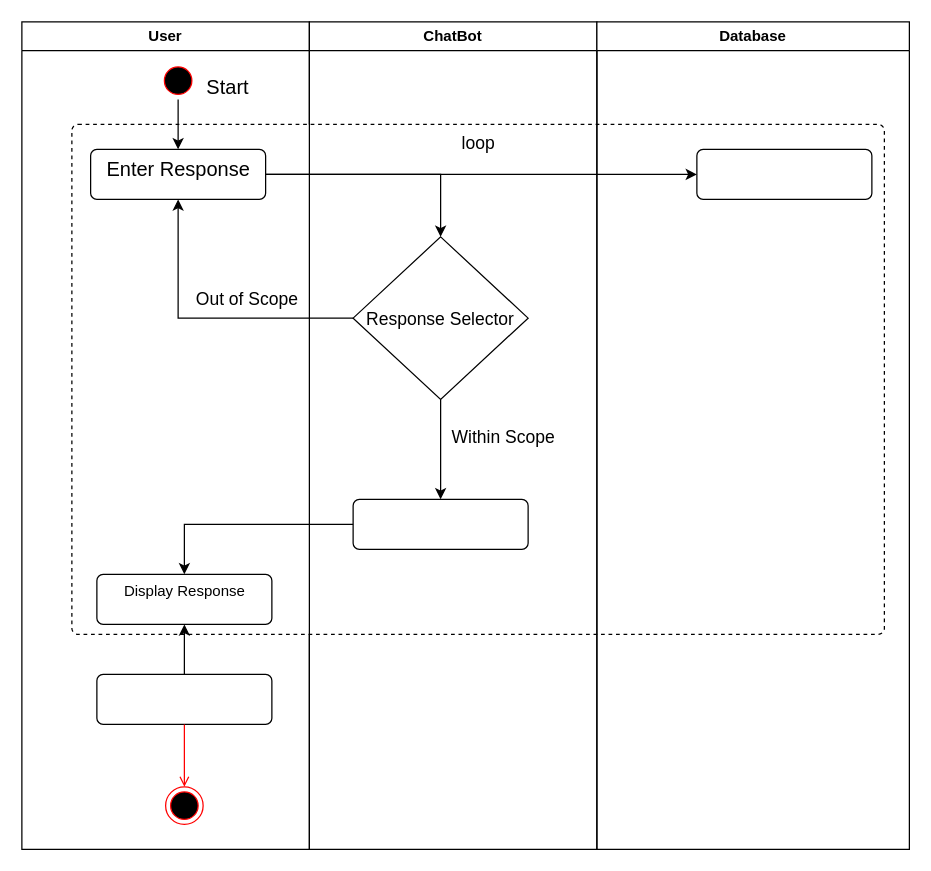
This 931x871 diagram has some shape labels left out. The shapes that lost their labels are listed below. From the top down, each one's box as (x1, y1, x2, y2) in pixels, then its label:
(696, 148, 872, 199): Store information
(352, 498, 528, 549): getResponse
(96, 673, 272, 724): End conversation
